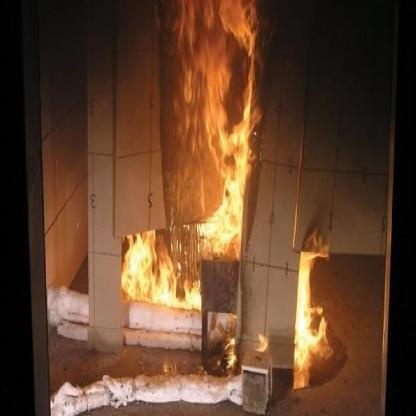fire: (103, 0, 270, 339), (262, 208, 355, 398)
